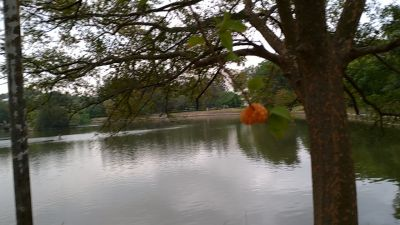eggs: (239, 103, 269, 126)
